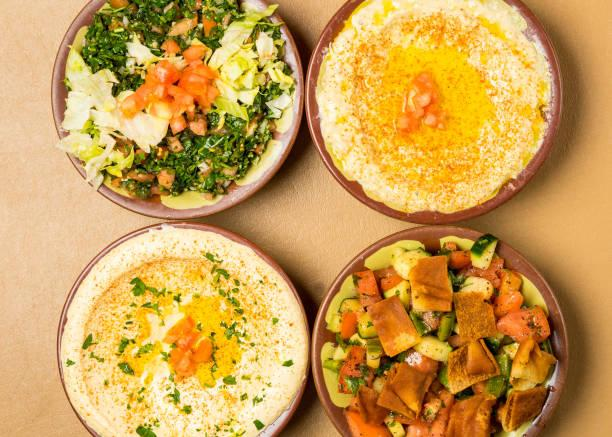Braised Crucian Carp: (306, 0, 556, 222), (49, 2, 298, 219), (308, 225, 566, 434), (58, 220, 307, 433)
